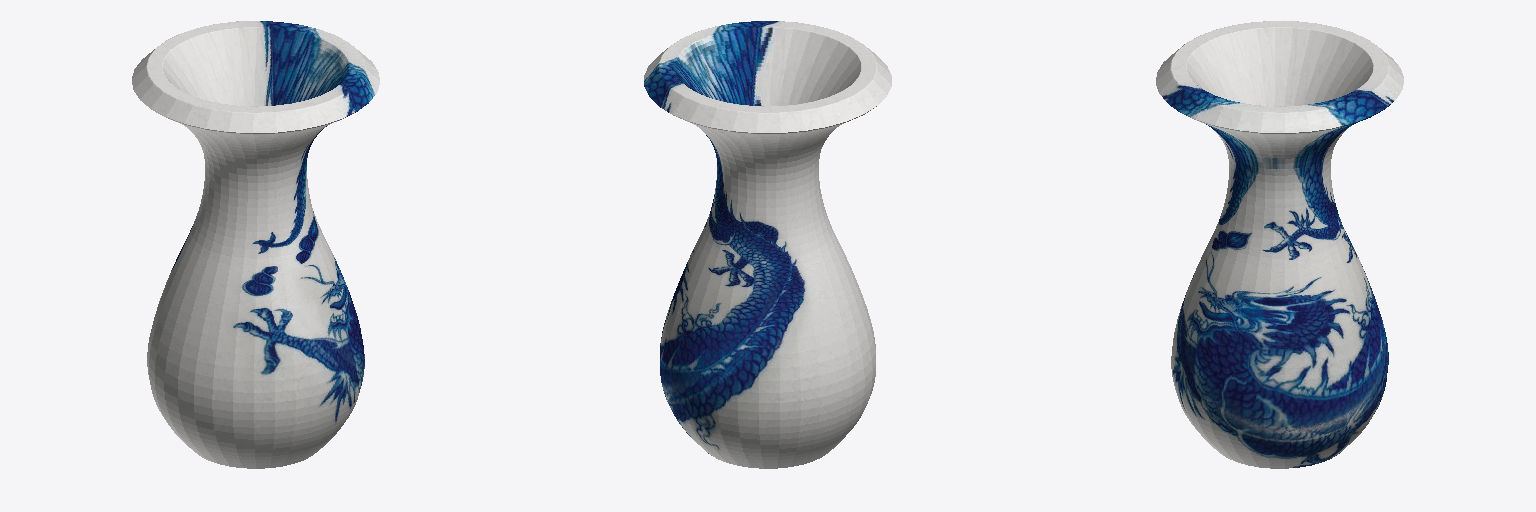
The picture shows the model from 3 angles: view 1: azimuth 30°, elevation 25°; view 2: azimuth 150°, elevation 25°; view 3: azimuth 270°, elevation 25°; orthographic projection.
Parts seen in each view (by area): view 1: Line001; view 2: Line001; view 3: Line001.
Part boxes in pixels (x1,y1,x2,y2): Line001: (132, 21, 379, 468); Line001: (644, 21, 891, 468); Line001: (1156, 21, 1403, 468).
Size of the model in its own units: 77.94 by 131 by 77.94.
1 materials, 1 textured.